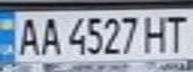2: (103, 14, 124, 56)
4: (63, 14, 87, 56)
5: (84, 14, 106, 56)
7: (118, 13, 142, 55)
A: (12, 15, 42, 57), (36, 15, 63, 56)
H: (139, 12, 172, 54)
T: (163, 11, 193, 53)
